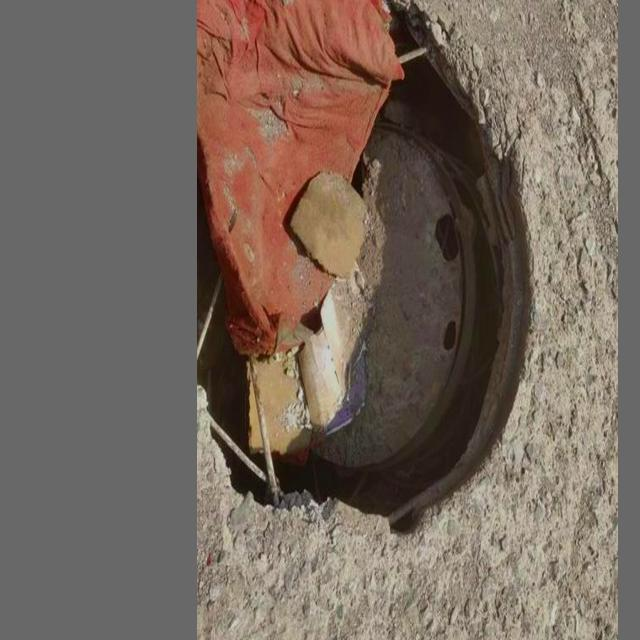broke: (207, 0, 578, 609)
